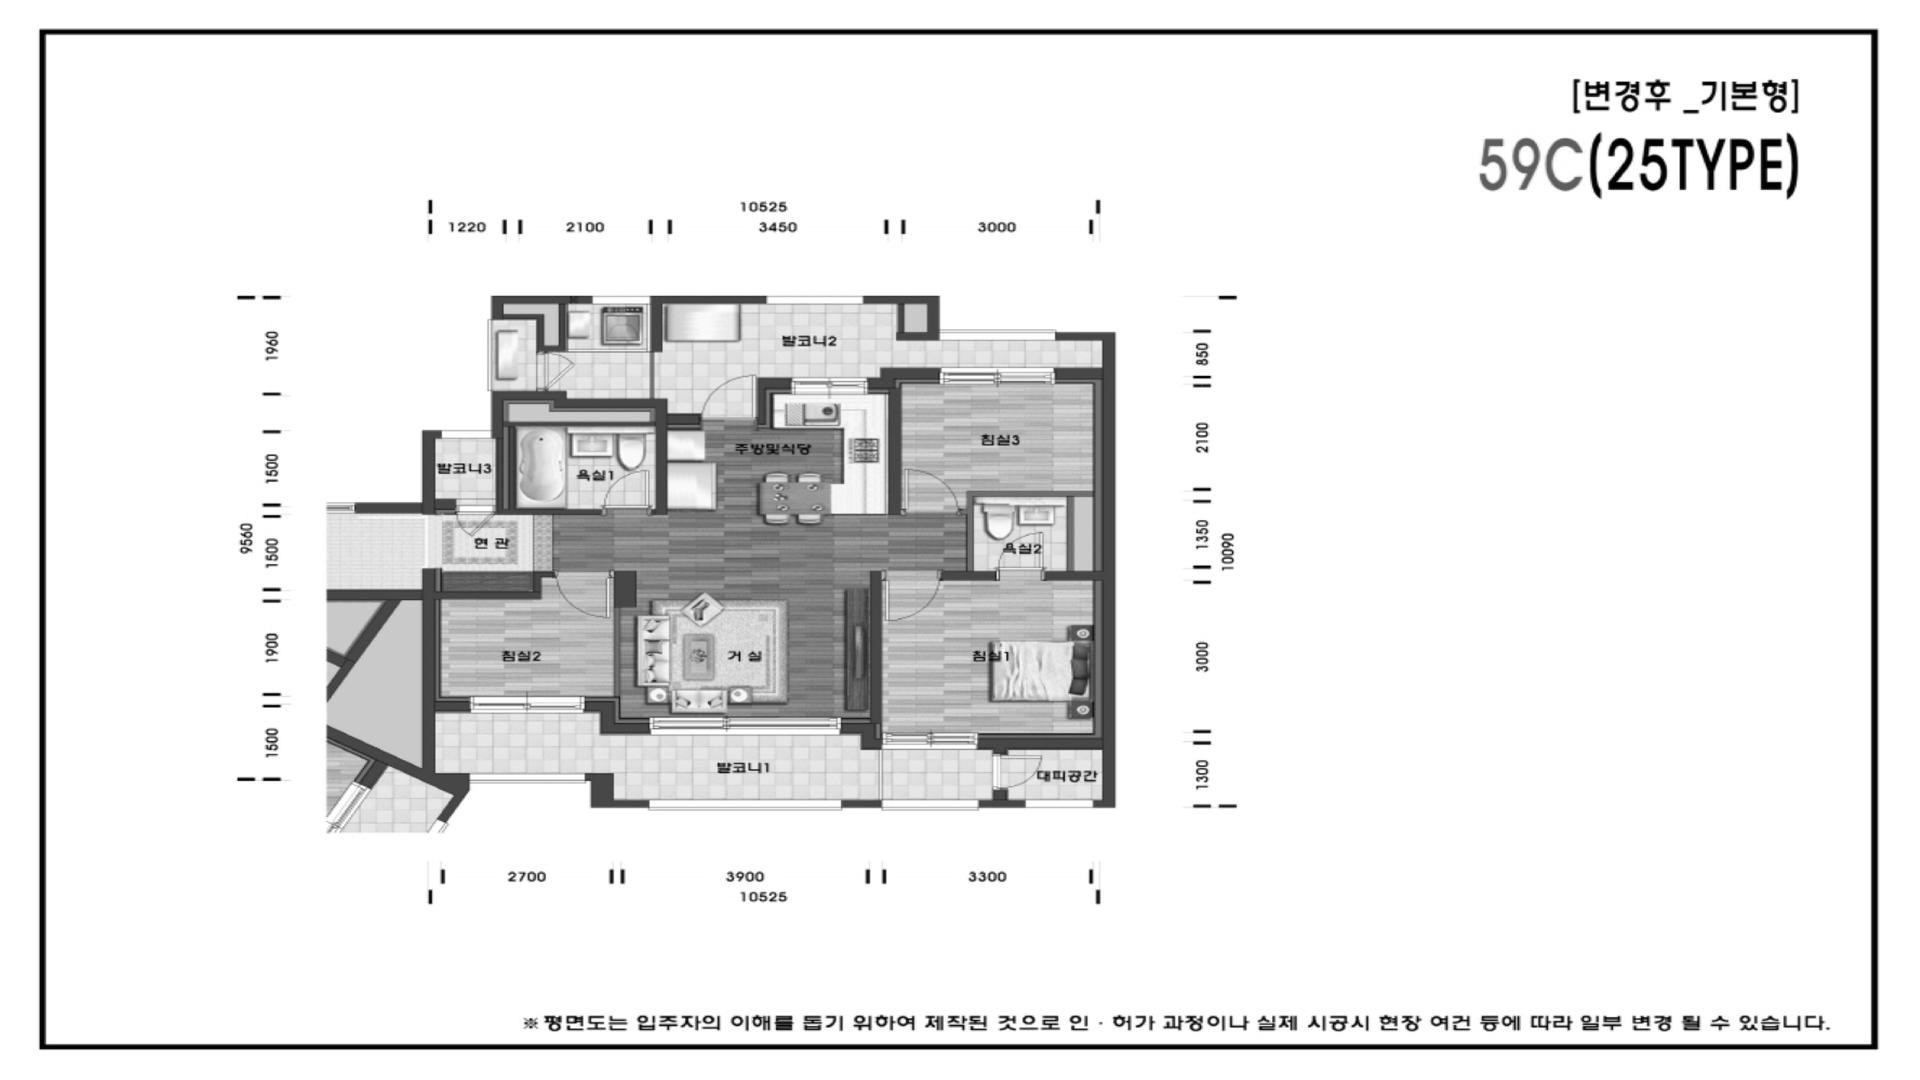door: (881, 571, 941, 621), (901, 466, 961, 516), (700, 374, 758, 425), (554, 571, 614, 620), (996, 531, 1046, 581), (602, 470, 652, 515), (536, 352, 577, 392), (455, 505, 497, 538)
wall: (1045, 332, 1116, 808), (422, 568, 554, 783), (491, 391, 667, 515), (496, 421, 655, 515), (941, 491, 1096, 581), (868, 368, 939, 515), (841, 571, 882, 750), (650, 296, 767, 352), (863, 296, 940, 341), (504, 304, 566, 352), (614, 570, 637, 698), (490, 296, 593, 320), (584, 773, 649, 809), (584, 701, 650, 735), (978, 737, 1102, 754), (422, 430, 442, 515), (757, 378, 792, 425), (1055, 367, 1102, 380), (435, 700, 470, 714), (978, 799, 1025, 809), (667, 413, 701, 425), (841, 800, 882, 809), (896, 304, 905, 333), (435, 499, 456, 510), (993, 790, 1008, 799)
window: (649, 716, 841, 735), (649, 800, 842, 811), (470, 696, 585, 714), (939, 367, 1055, 384), (881, 732, 978, 750), (792, 378, 868, 395), (939, 330, 1055, 341), (469, 773, 585, 783), (882, 800, 978, 811), (767, 296, 863, 304), (1025, 799, 1093, 808), (593, 296, 650, 304)
